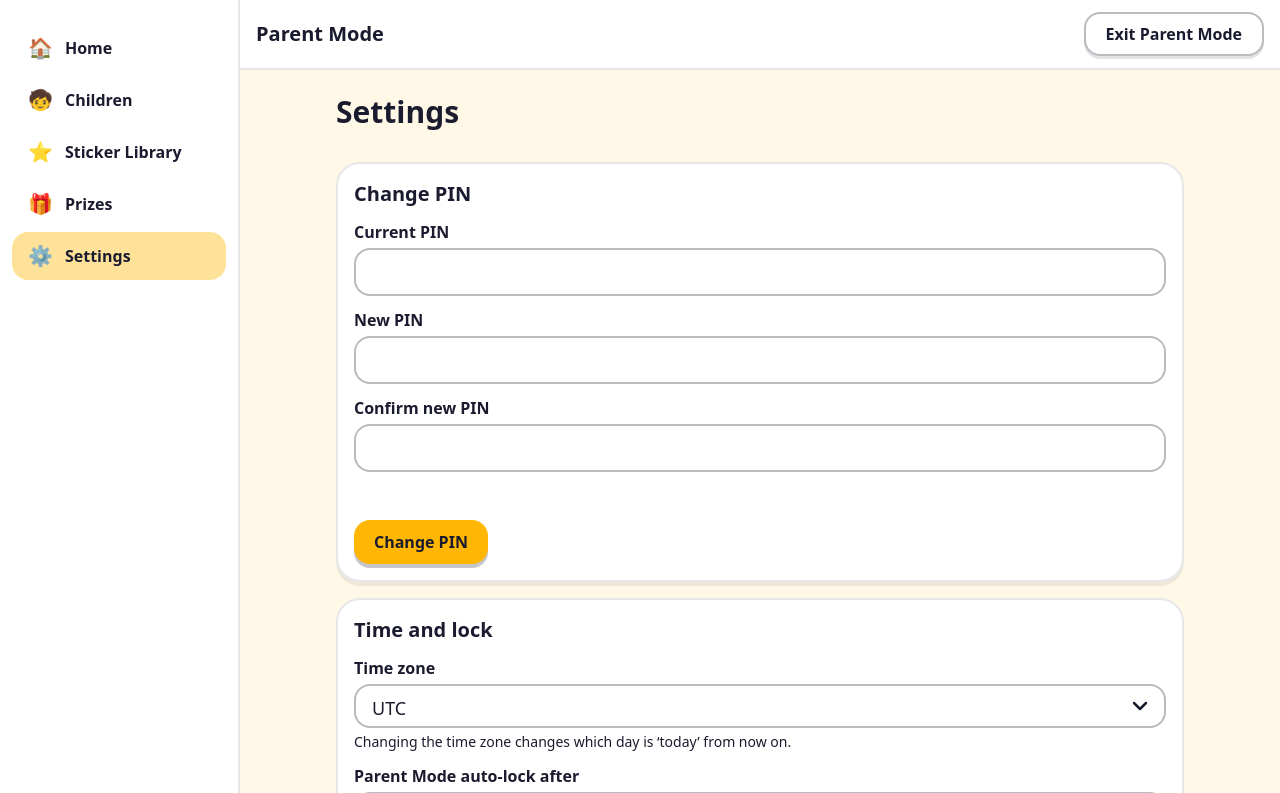
SettingsScreen › changes the PIN
Type "1234" into the password field labelled "Current PIN" at coordinates (760, 272), box [354,248,1166,296]
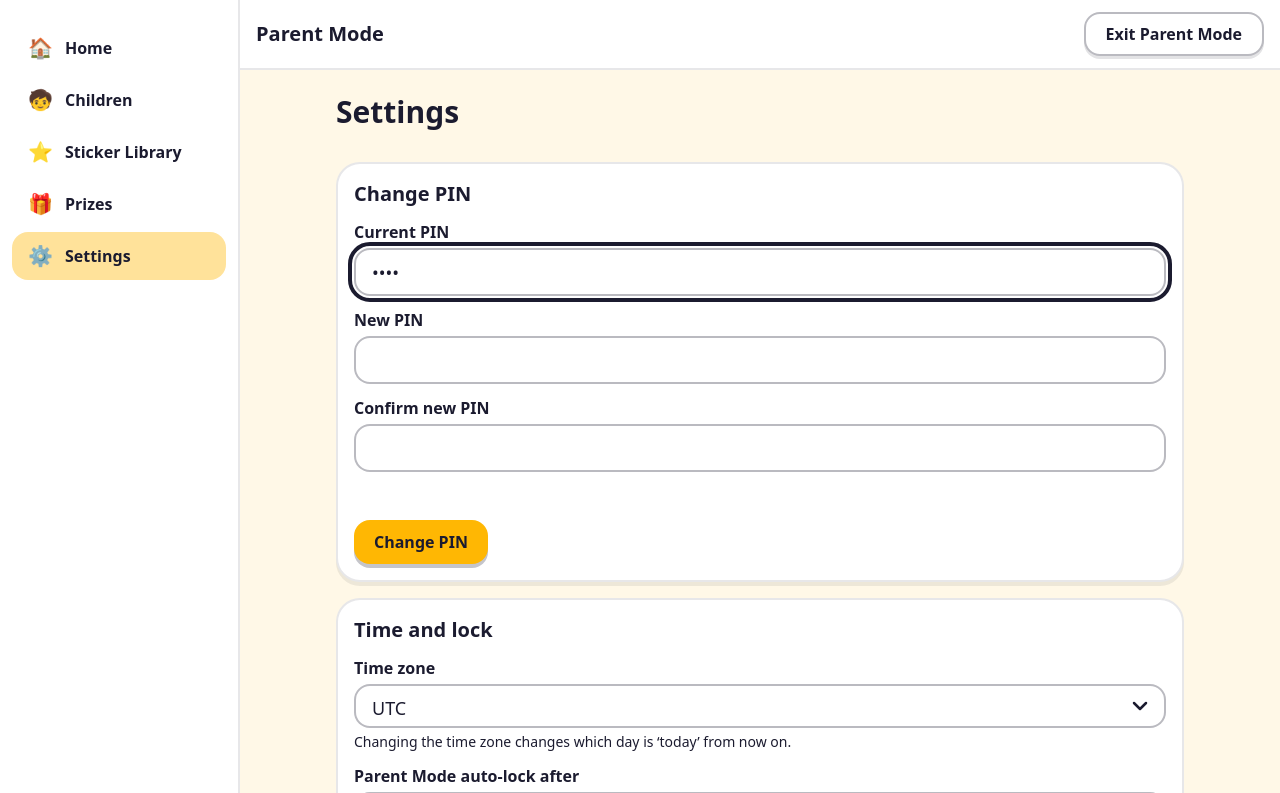
Type "5678" into the password field labelled "New PIN" at coordinates (760, 360), box [354,336,1166,384]
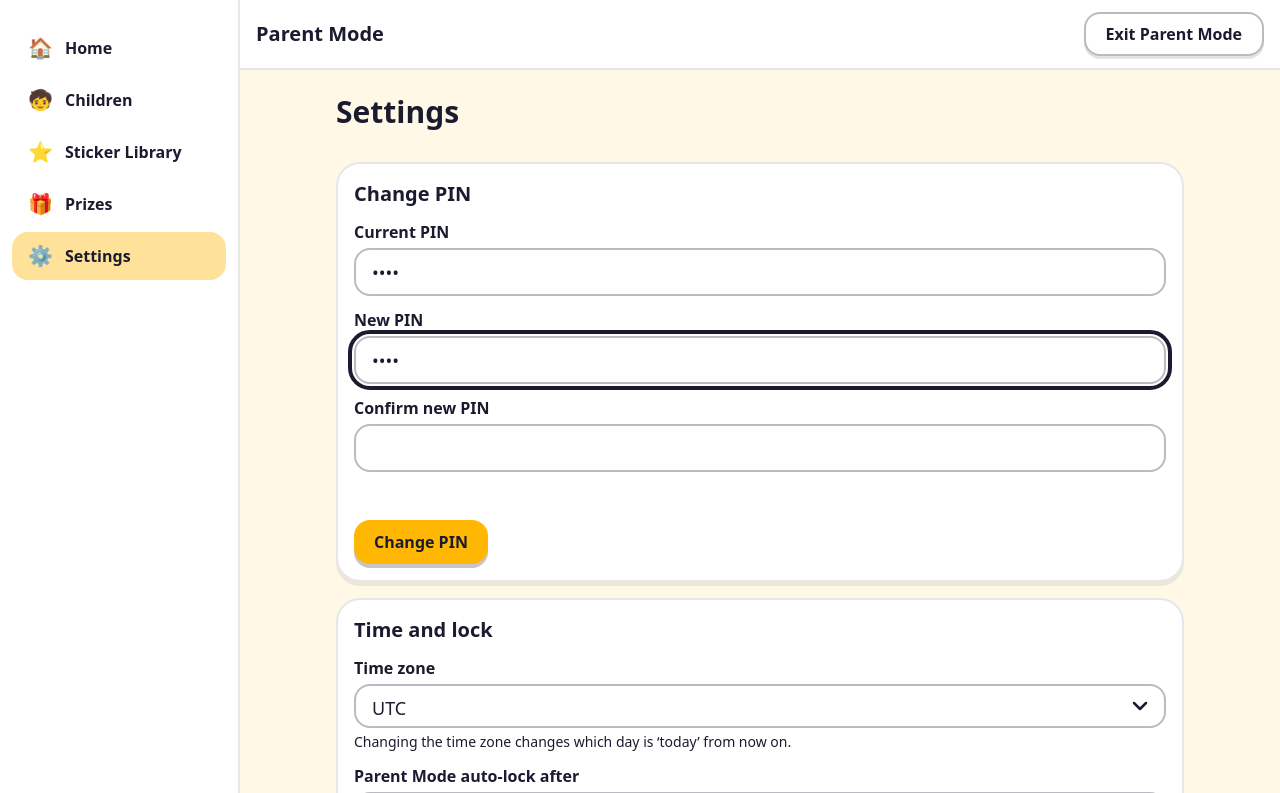
Type "5678" into the password field labelled "Confirm new PIN" at coordinates (760, 448), box [354,424,1166,472]
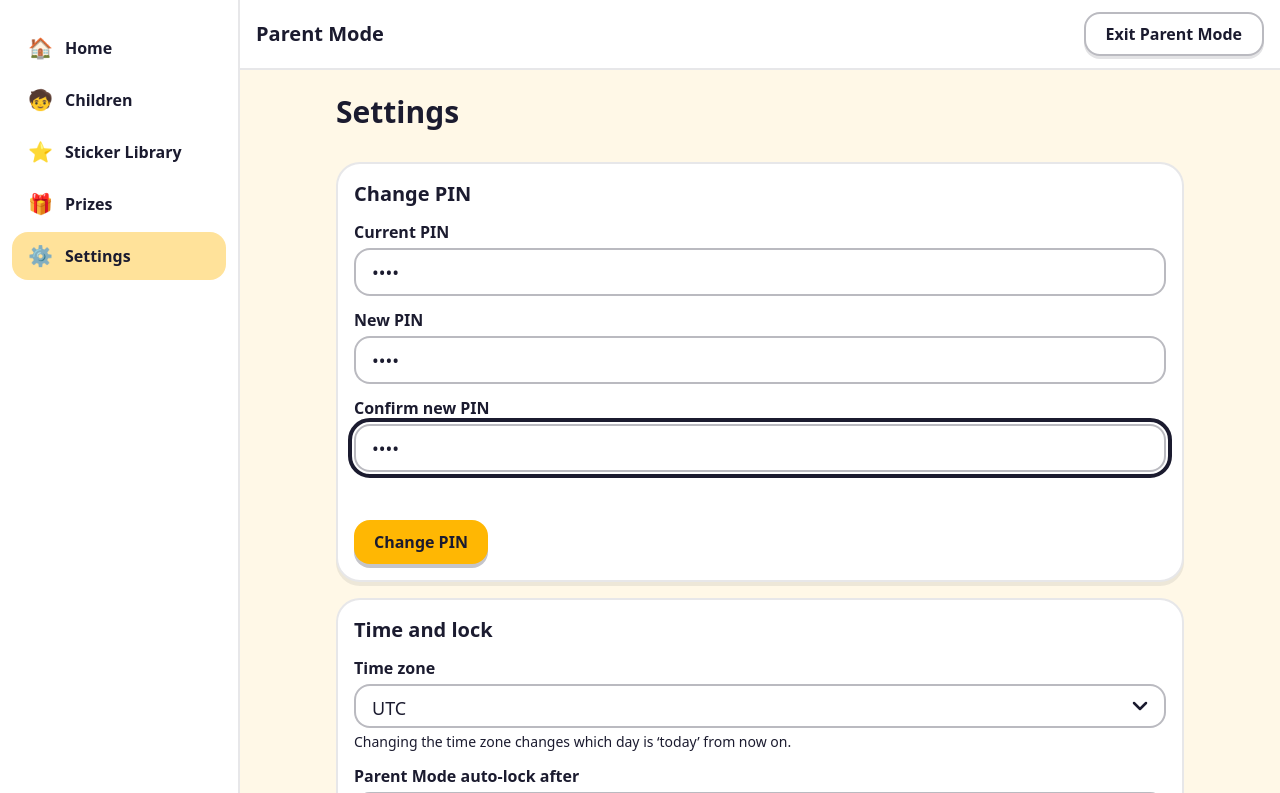
Click the button "Change PIN" at coordinates (421, 542), box [354,520,488,564]
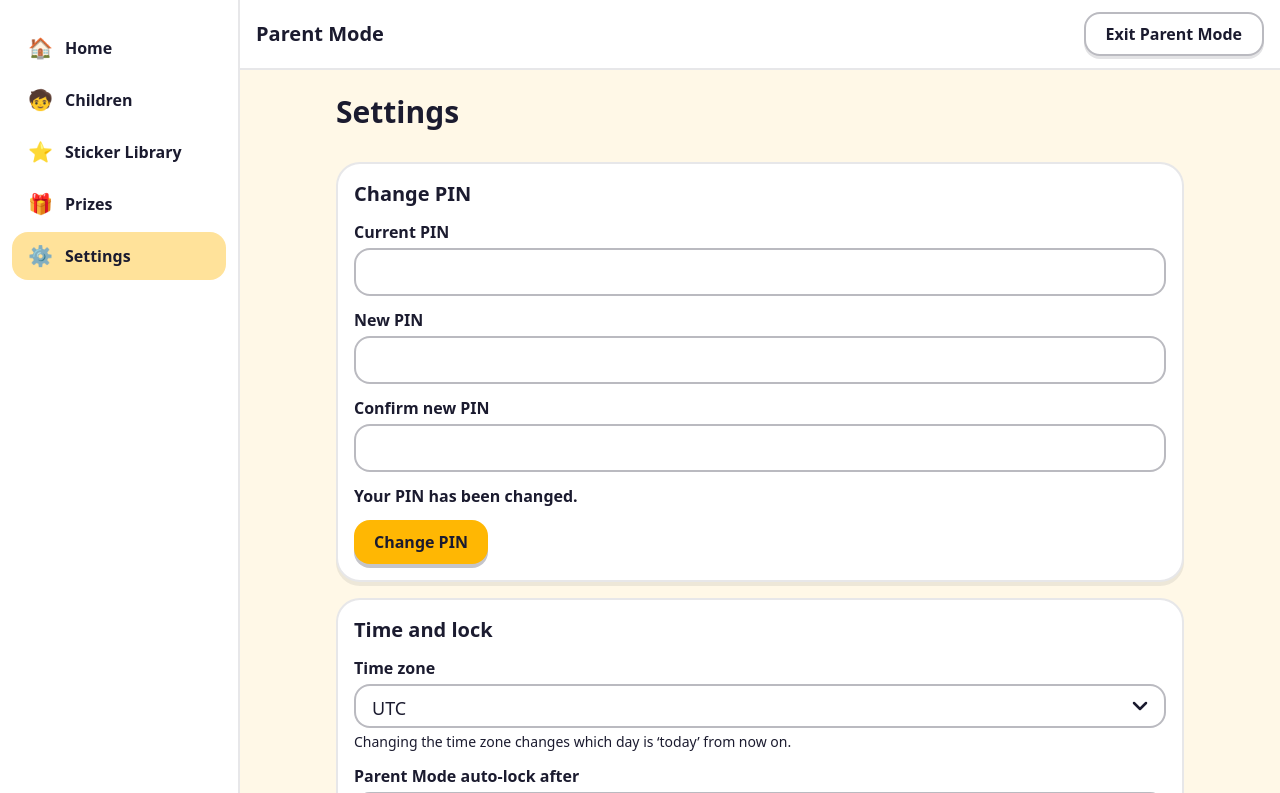
Result: the text "Your PIN has been changed." is shown at [354,485,578,507]
